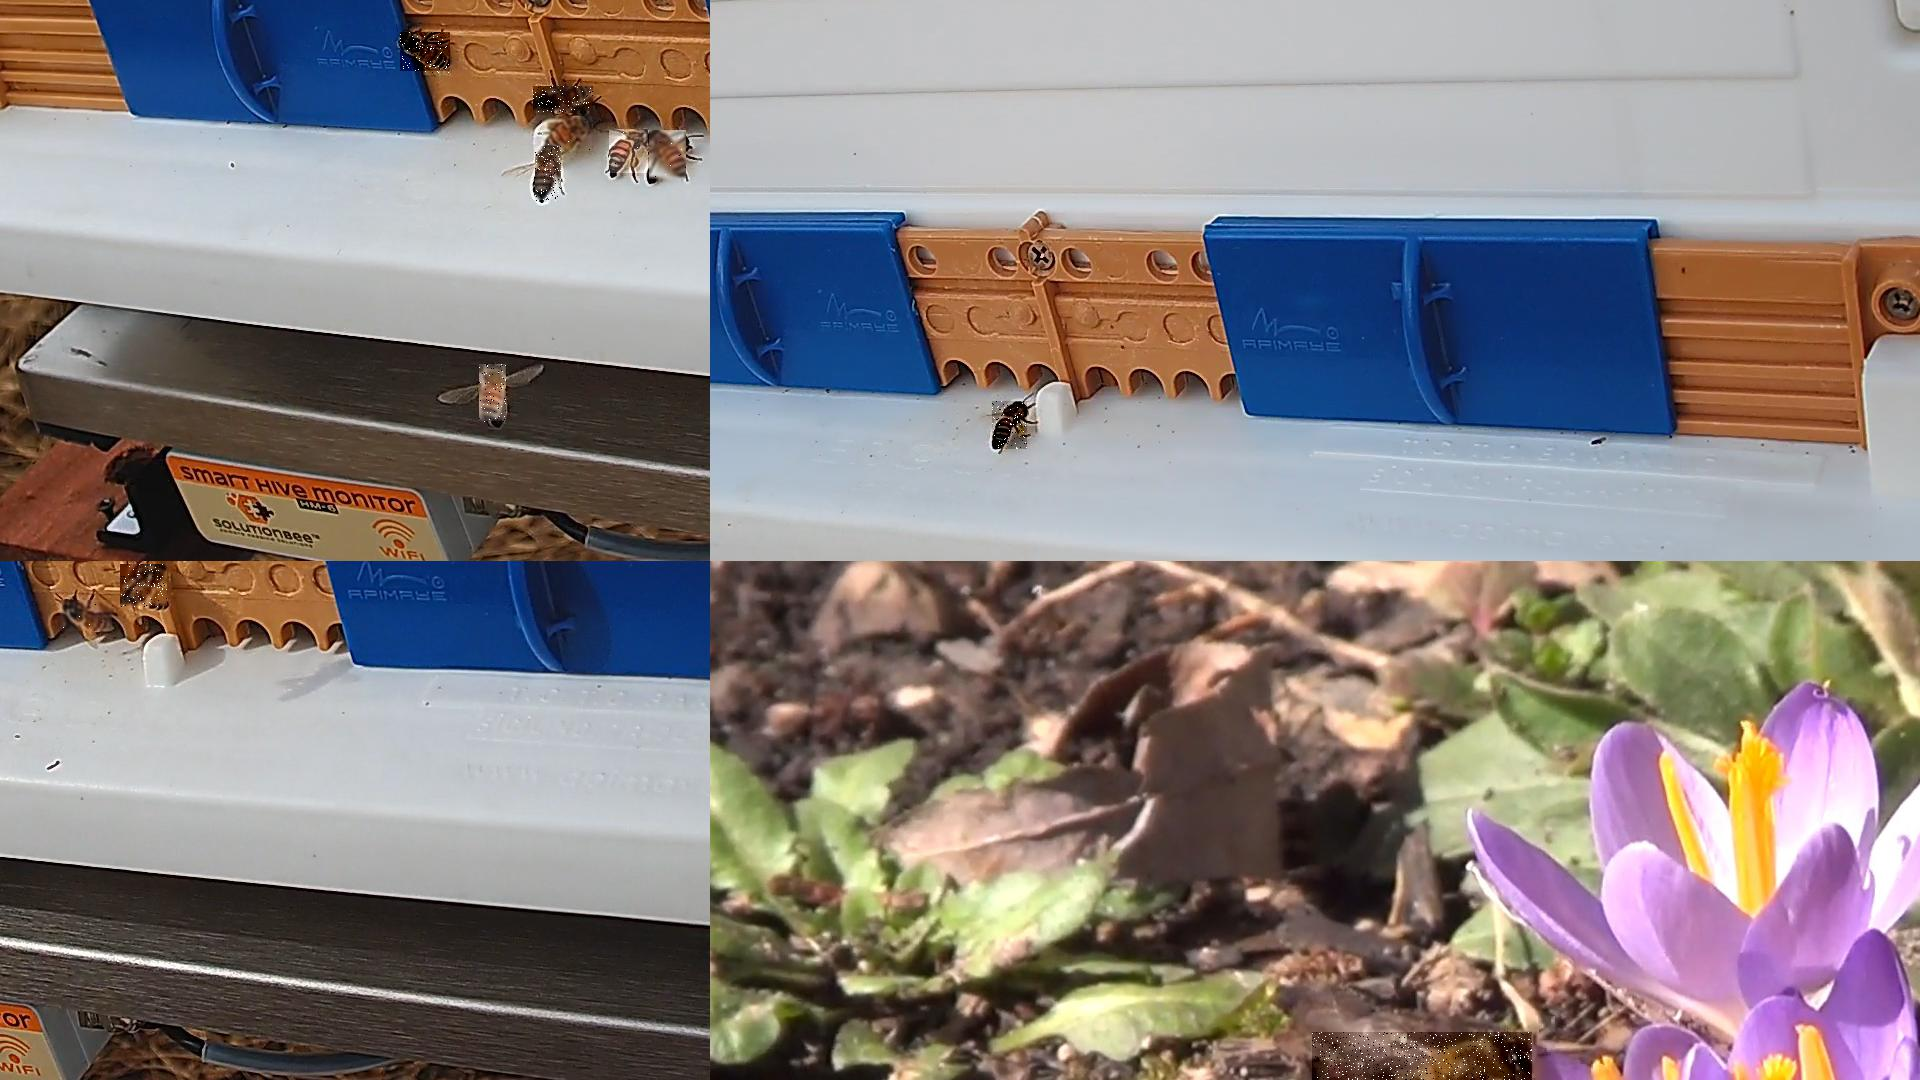bee: (401, 33, 451, 75), (649, 131, 687, 182), (609, 129, 649, 177), (542, 116, 593, 152), (61, 600, 113, 632), (479, 365, 506, 423), (533, 87, 593, 113), (535, 146, 562, 203)
pollenbee: (1312, 1033, 1534, 1079), (120, 564, 169, 609), (992, 401, 1029, 450)
